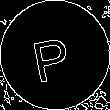P_N: (32, 27, 78, 83)
